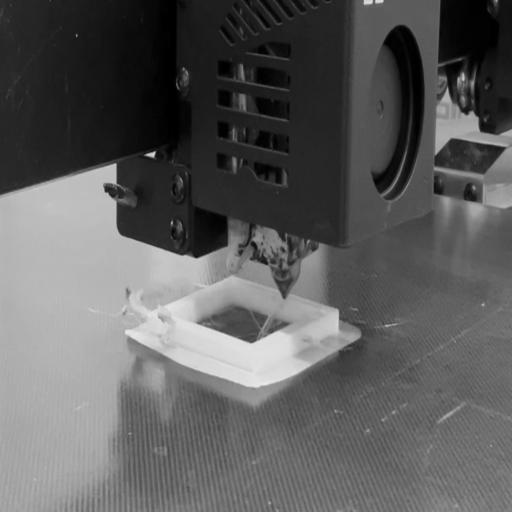spaghetti_and_stringing: (123, 281, 287, 343)
warp: (121, 329, 166, 367)
